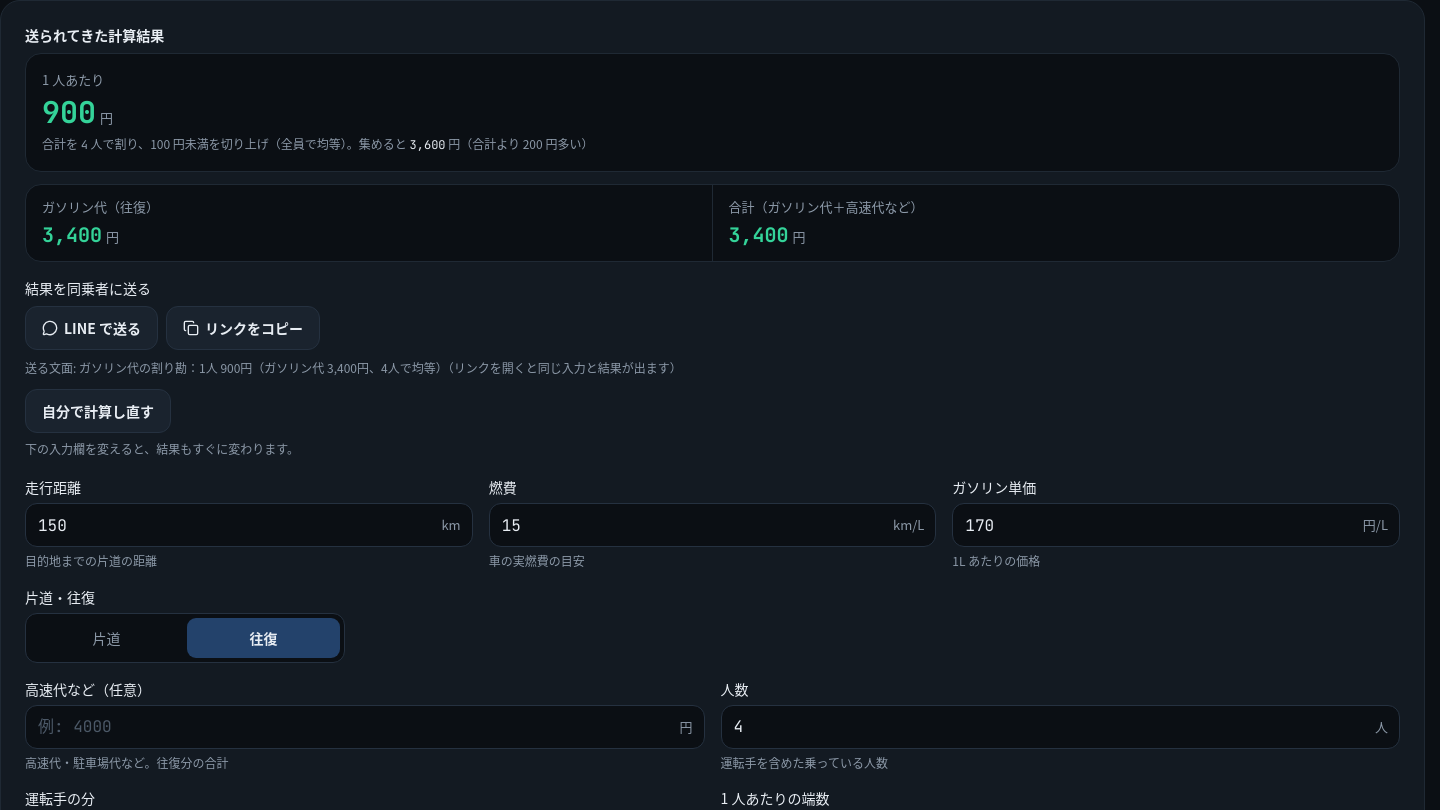
Test: WarikanCalculator › LINE の共有リンクとコピー（成功の表示）
What coordinates should you click on to do the following:
click the button "リンクをコピー"
I would click on:
 (243, 328)
Its box is [166, 306, 320, 350].
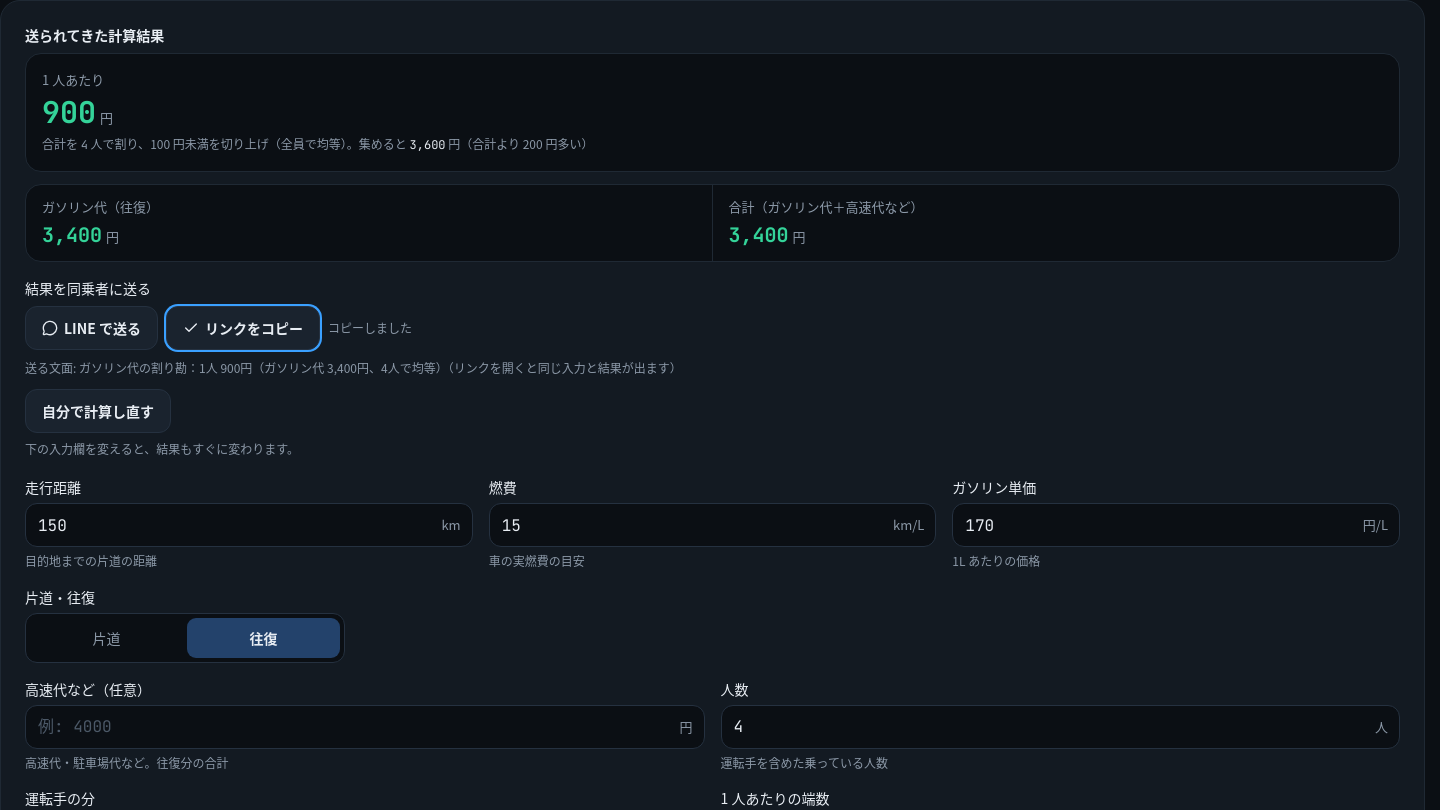
Expected: the text "コピーしました" is shown, [328, 320, 412, 336]
